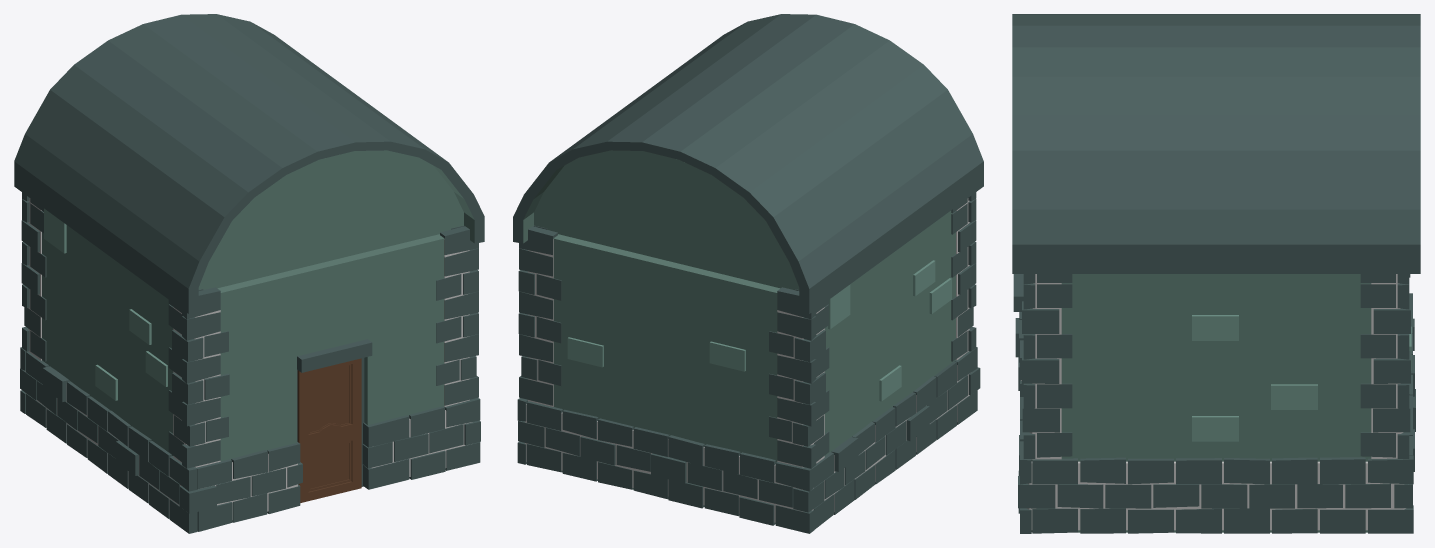
Rendered from 1Story_RoundRoof_Mat.glb.
3 views of the same model, side by side, from view 1: azimuth 30°, elevation 25°; view 2: azimuth 150°, elevation 25°; view 3: azimuth 270°, elevation 25° (orthographic). The views are drawn at different scales.
Parts seen in each view (by area): view 1: 1Story_RoundRoof_Mat; view 2: 1Story_RoundRoof_Mat; view 3: 1Story_RoundRoof_Mat.
Boxes of the visible parts, bbox=[...] form: 1Story_RoundRoof_Mat: bbox=[14, 14, 484, 533]; 1Story_RoundRoof_Mat: bbox=[513, 14, 983, 533]; 1Story_RoundRoof_Mat: bbox=[1012, 14, 1420, 533].
Size of the model in its own units: 2.09 by 2.38 by 2.13.
